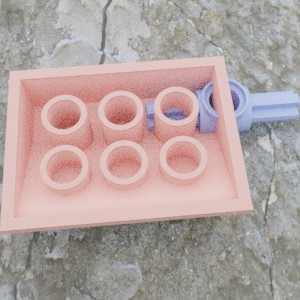lego: (0, 55, 253, 234), (145, 78, 300, 141)
